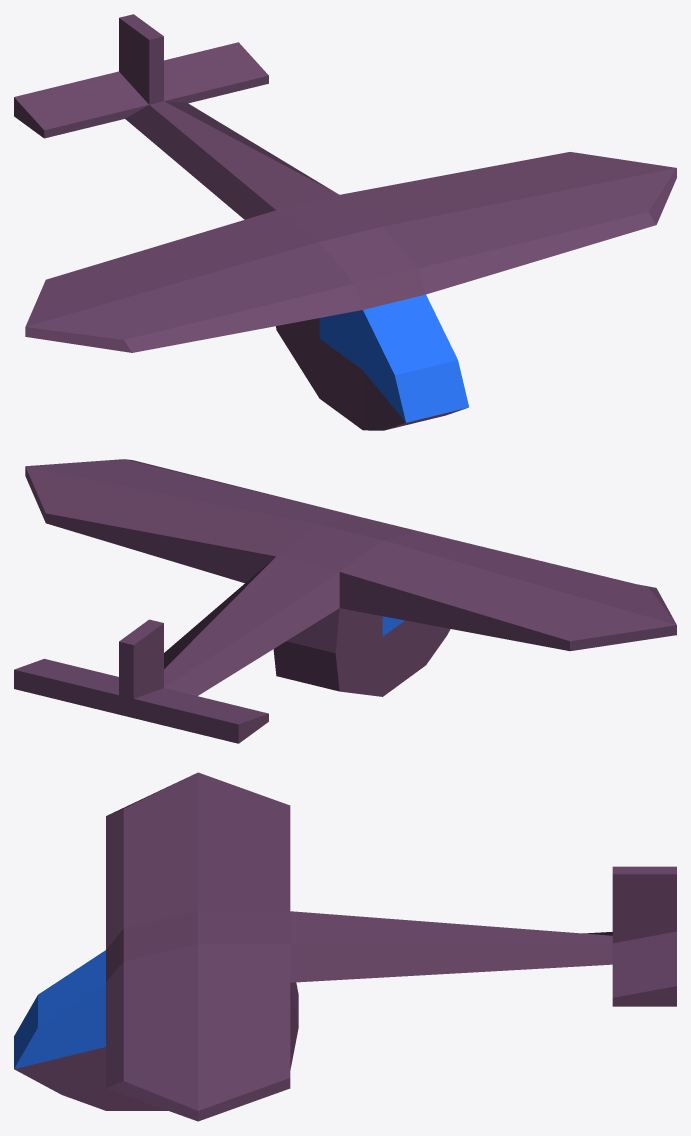
File: VS_plane_apply.fbx
The picture shows the model from 3 angles, top to bottom: view 1: azimuth 30°, elevation 25°; view 2: azimuth 150°, elevation 25°; view 3: azimuth 270°, elevation 25°; orthographic projection. The views are drawn at different scales.
Visible parts, largest first — view 1: Cube; view 2: Cube; view 3: Cube.
Part boxes in pixels (bbox=[...]): Cube: bbox=[14, 14, 676, 430]; Cube: bbox=[14, 459, 676, 743]; Cube: bbox=[14, 772, 676, 1121].
Bounding box in the file's own units: 109 × 33.56 × 90.
